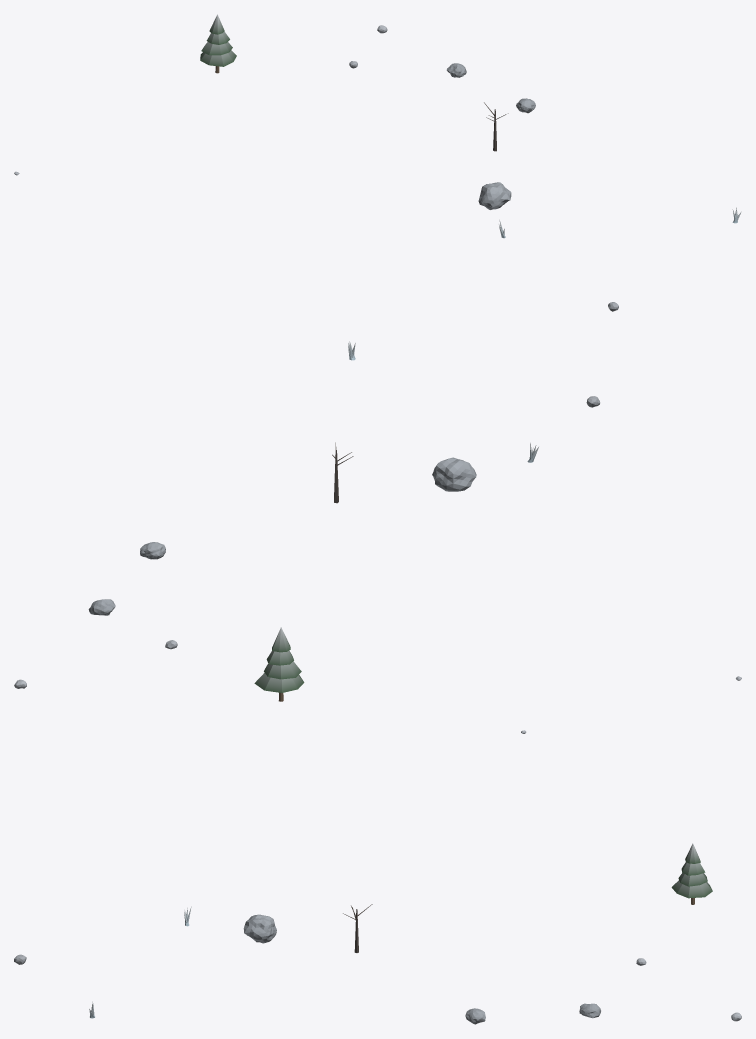
File: frost_land_scatter_c22_12.glb
3 views of the same model, one above another, from view 1: azimuth 30°, elevation 25°; view 2: azimuth 150°, elevation 25°; view 3: azimuth 270°, elevation 25° (orthographic). The views are drawn at different scales.
Parts seen in each view (by area): view 1: frost_land_scatter_c22_12; view 2: frost_land_scatter_c22_12; view 3: frost_land_scatter_c22_12.
Part boxes in pixels (x1,y1,x2,y2): frost_land_scatter_c22_12: [14, 14, 741, 311]; frost_land_scatter_c22_12: [14, 341, 741, 701]; frost_land_scatter_c22_12: [14, 730, 741, 1024].
Bounding box in the file's own units: 81.96 × 11.92 × 95.09.
